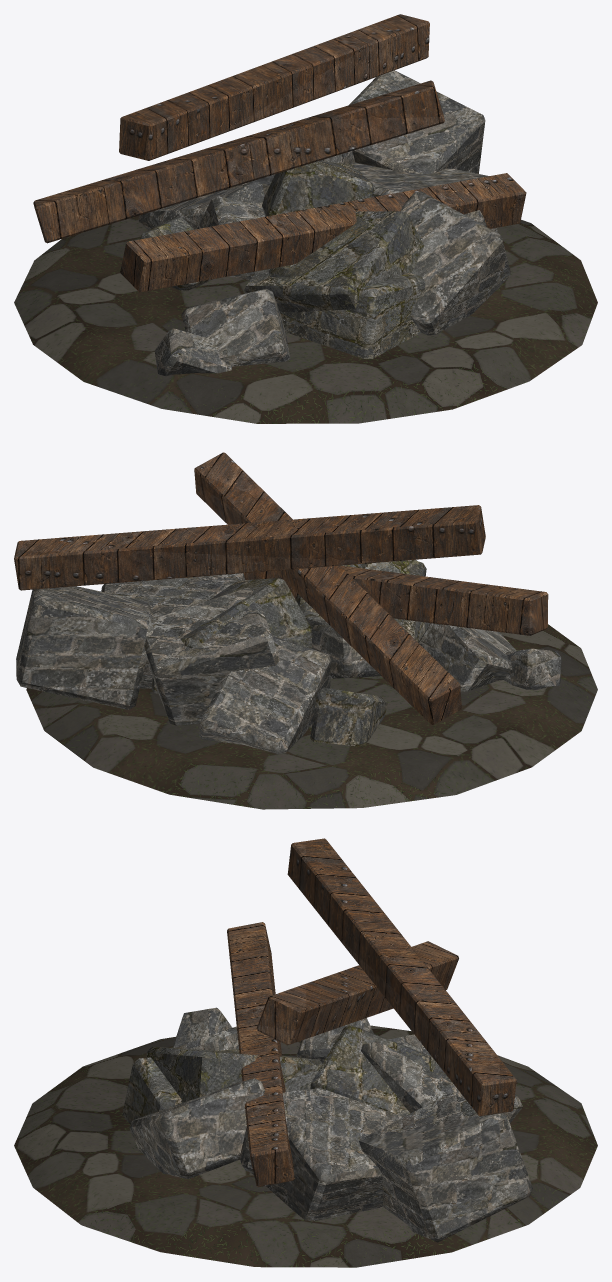
File: collapsed-ceiling-v01.glb
The picture shows the model from 3 angles, top to bottom: view 1: azimuth 30°, elevation 25°; view 2: azimuth 150°, elevation 25°; view 3: azimuth 270°, elevation 25°; orthographic projection.
Parts seen in each view (by area): view 1: collapsed-ceiling; view 2: collapsed-ceiling; view 3: collapsed-ceiling.
Boxes of the visible parts, <box> form: collapsed-ceiling: <box>14,14,597,423</box>; collapsed-ceiling: <box>14,452,597,809</box>; collapsed-ceiling: <box>14,838,597,1267</box>.
Size of the model in its own units: 2.96 by 1.27 by 3.01.
Materials: 4 (4 with a texture image).
